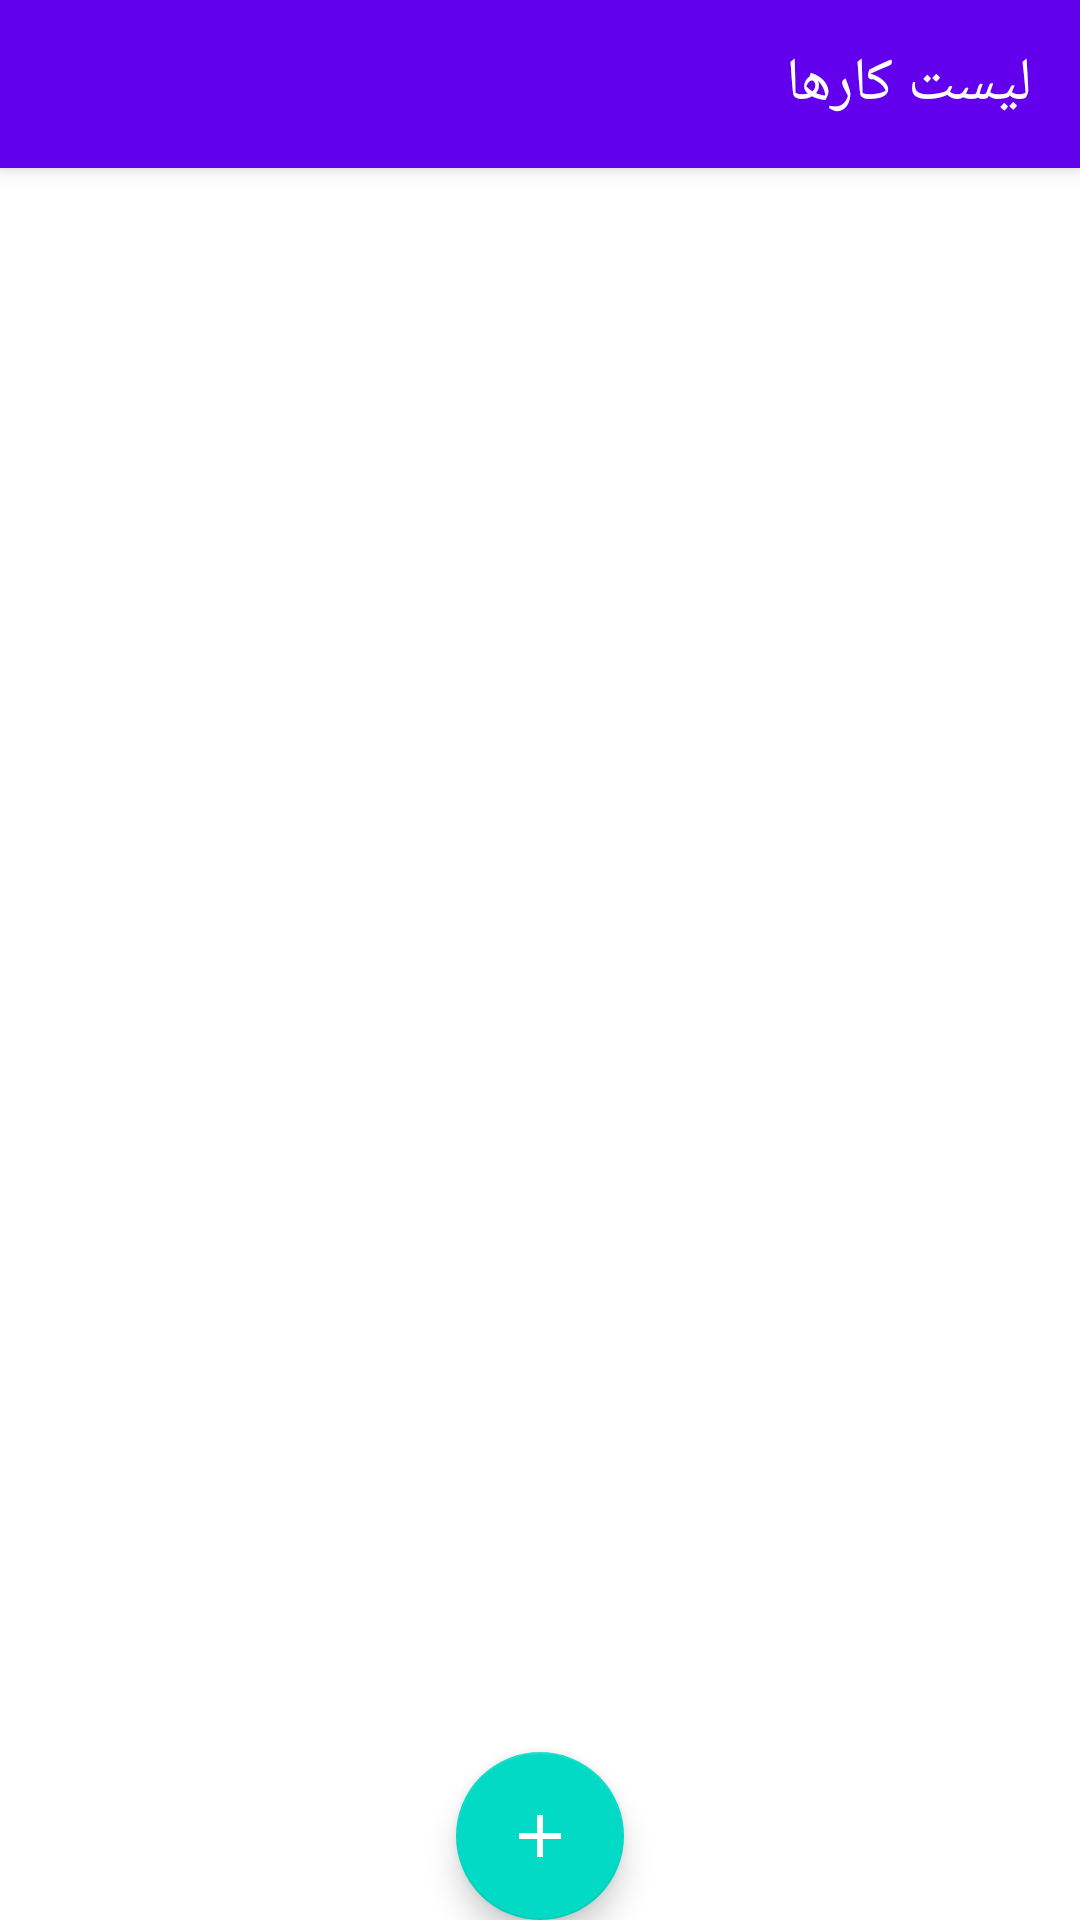

Icon bounding boxes for this 1080w x 1920h phone screenshot, format detection(x1, y1, x2, y2):
add: detection(456, 1752, 624, 1920)
